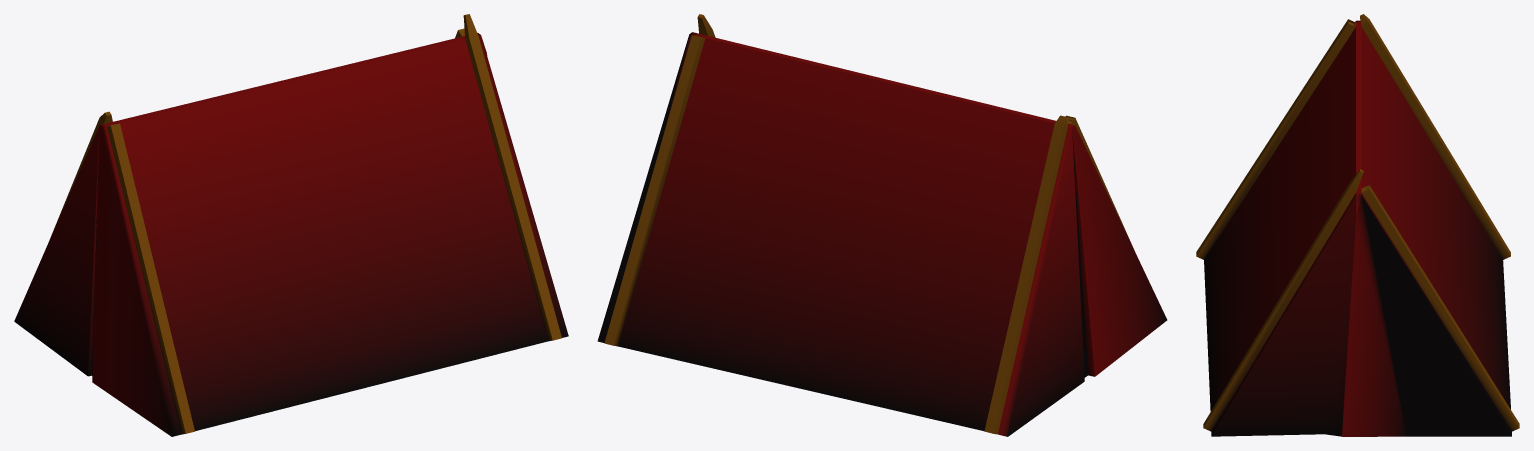
The model's file is tent.fbx.
3 renders of one model, left to right at view 1: azimuth 30°, elevation 25°; view 2: azimuth 150°, elevation 25°; view 3: azimuth 270°, elevation 25°, orthographic. The views are drawn at different scales.
Parts seen in each view (by area): view 1: tent; view 2: tent; view 3: tent.
Boxes of the visible parts, bbox=[...] form: tent: bbox=[14, 14, 568, 436]; tent: bbox=[597, 14, 1167, 436]; tent: bbox=[1196, 14, 1519, 436].
Bounding box in the file's own units: 257 × 163 × 187.
